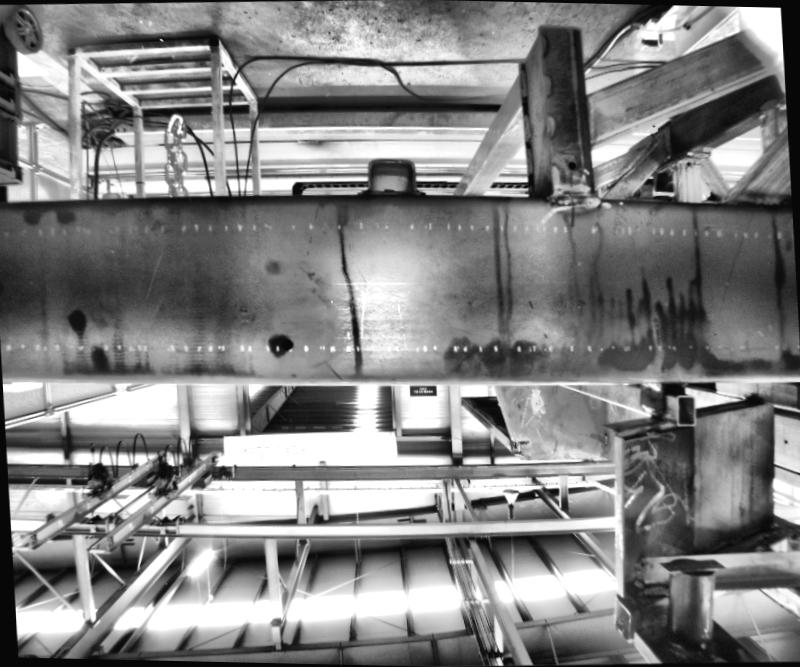bracket: (355, 156, 428, 202)
hole: (282, 338, 294, 352), (567, 162, 577, 170)
welding: (548, 186, 596, 208)
